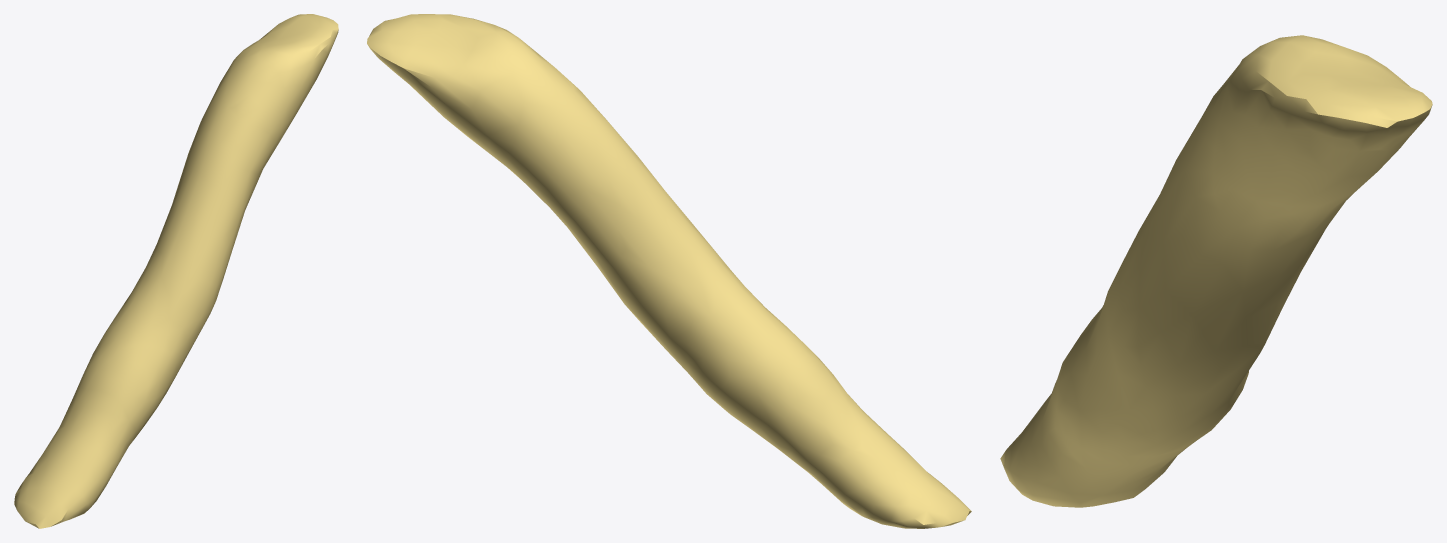
The model's file is fma61963-r_mm3001m.glb.
3 renders of one model, left to right at view 1: azimuth 30°, elevation 25°; view 2: azimuth 150°, elevation 25°; view 3: azimuth 270°, elevation 25°, orthographic. The views are drawn at different scales.
Visible parts, largest first — view 1: FMA61963-R_MM3001M; view 2: FMA61963-R_MM3001M; view 3: FMA61963-R_MM3001M.
Boxes of the visible parts, bbox=[...] form: FMA61963-R_MM3001M: bbox=[14, 14, 338, 528]; FMA61963-R_MM3001M: bbox=[367, 14, 971, 528]; FMA61963-R_MM3001M: bbox=[1000, 35, 1432, 507].
Bounding box in the file's own units: 0.00735 × 0.00652 × 0.00356.
